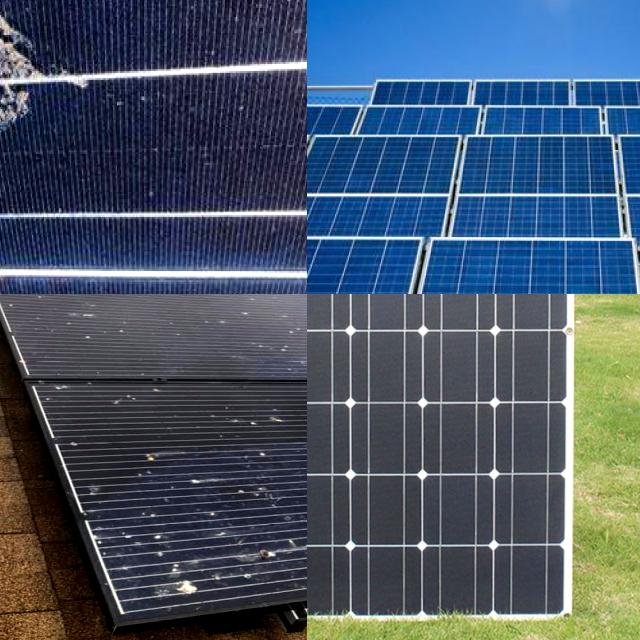bird: (0, 0, 127, 166), (119, 502, 307, 597), (101, 433, 292, 488), (0, 294, 136, 360), (224, 294, 307, 381)
crack: (307, 294, 565, 617), (307, 133, 511, 270), (447, 131, 640, 251), (391, 233, 640, 294)
